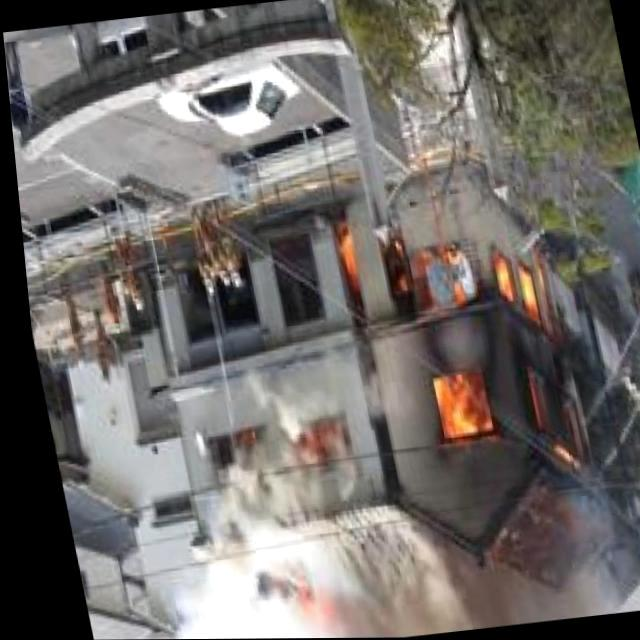fire: (316, 190, 616, 498)
